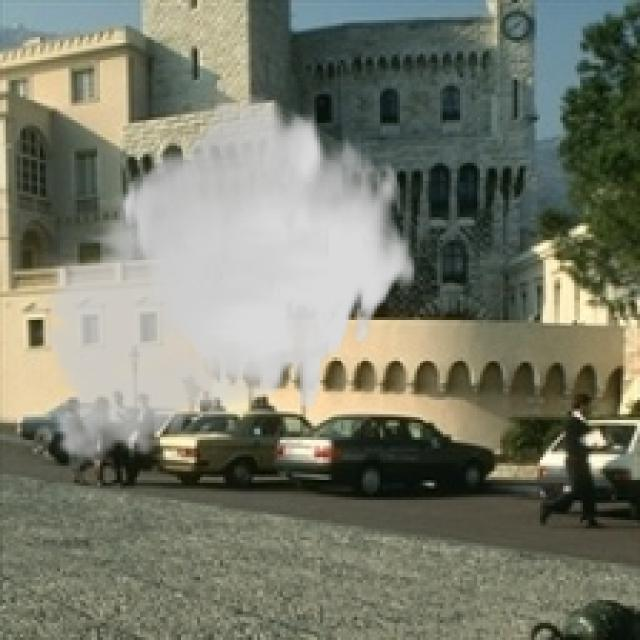Smoke: (32, 94, 417, 480)
